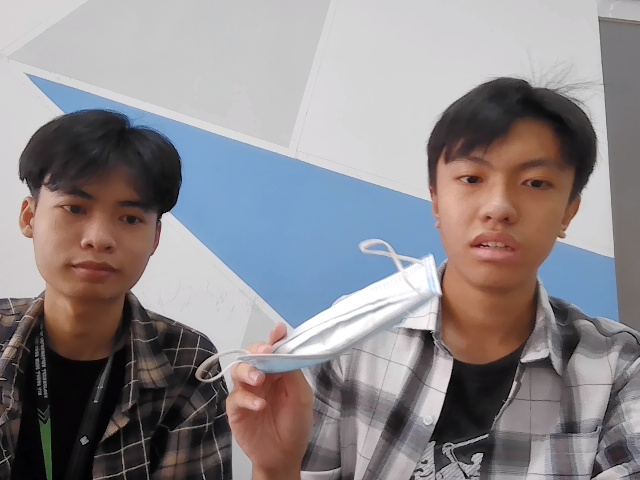human: (429, 77, 590, 283), (23, 106, 175, 300)
mask: (224, 257, 447, 373)
